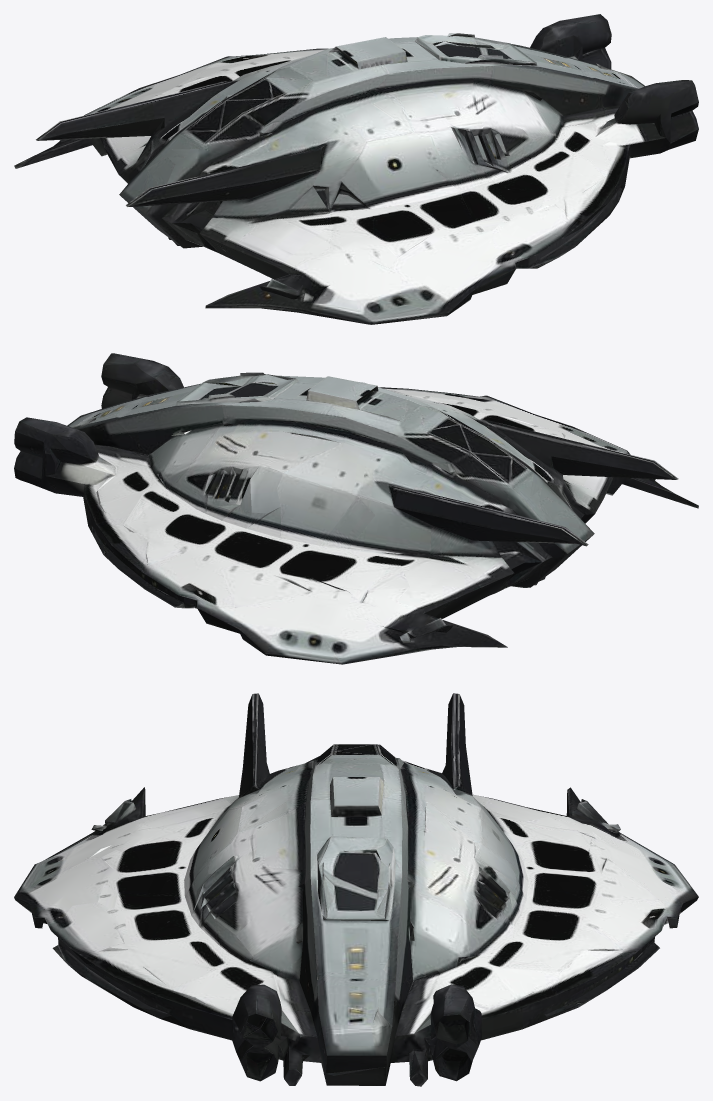
File: nation-q-cruiser.glb
3 renders of one model, top to bottom at view 1: azimuth 30°, elevation 25°; view 2: azimuth 150°, elevation 25°; view 3: azimuth 270°, elevation 25°, orthographic. The views are drawn at different scales.
Size of the model in its own units: 1.9 by 0.5307 by 1.79.
1 material, 1 textured.
